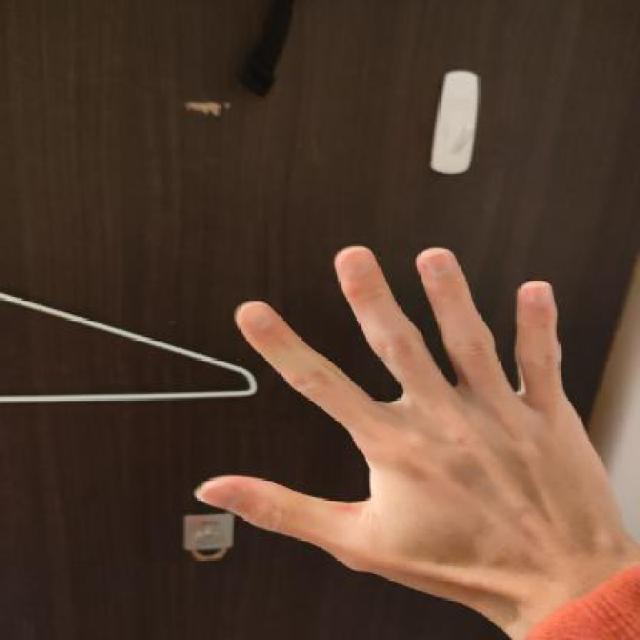bare_hand: (176, 220, 638, 638)
